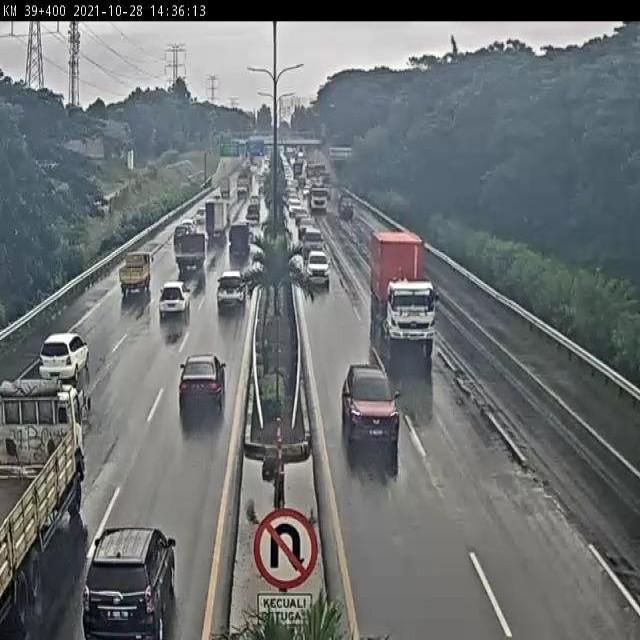big truck: (0, 380, 86, 636), (367, 228, 438, 359)
car: (81, 526, 177, 640), (339, 363, 401, 448), (38, 329, 91, 383), (178, 355, 229, 409), (215, 267, 253, 313), (153, 286, 189, 330), (304, 248, 333, 287), (224, 223, 252, 260), (302, 224, 325, 255), (178, 217, 198, 239), (173, 224, 192, 241)
small truck: (119, 252, 152, 299), (173, 232, 209, 273), (204, 200, 229, 241)
